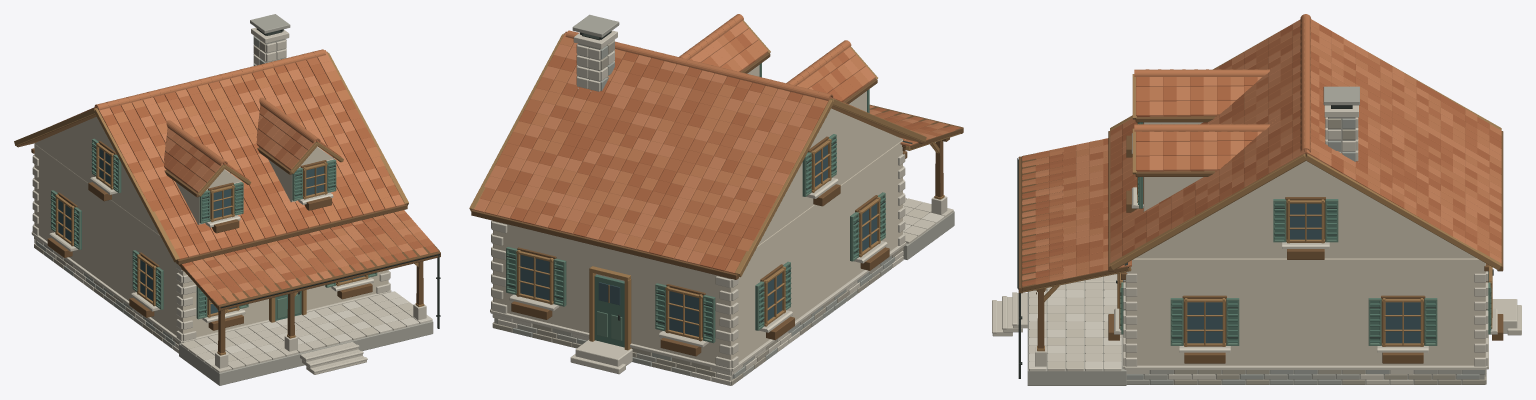
The model's file is SM_IntellectualGrandpaHouse_Blockout.fbx.
3 views of the same model, side by side, from view 1: azimuth 30°, elevation 25°; view 2: azimuth 150°, elevation 25°; view 3: azimuth 270°, elevation 25° (orthographic). The views are drawn at different scales.
Visible parts, largest first — view 1: SM_IntellectualGrandpaHouse_Blockout; view 2: SM_IntellectualGrandpaHouse_Blockout; view 3: SM_IntellectualGrandpaHouse_Blockout.
Boxes of the visible parts, x1,y1,x2,y2 form: SM_IntellectualGrandpaHouse_Blockout: (14, 14, 440, 385); SM_IntellectualGrandpaHouse_Blockout: (469, 14, 963, 385); SM_IntellectualGrandpaHouse_Blockout: (992, 14, 1521, 385).
Size of what is drawn, in the model's own units: 907 by 1471 by 840.
